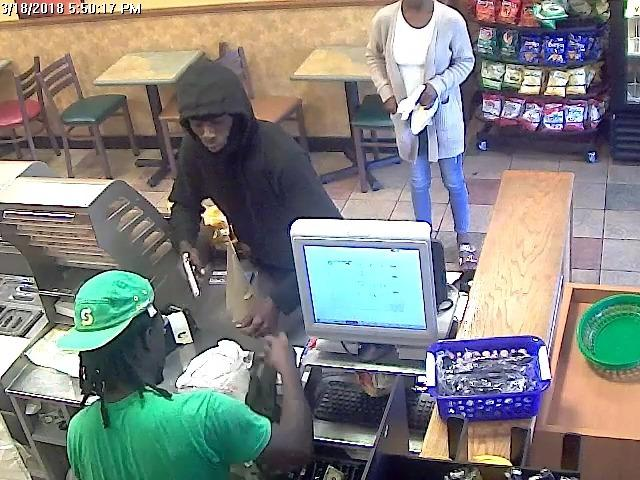weapon: (175, 246, 212, 301)
